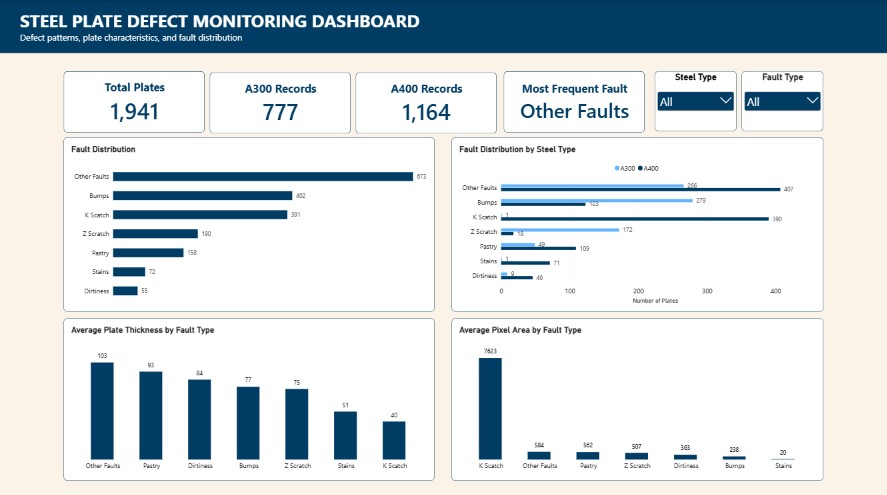

The page's visual inventory and layout, read from the dashboard file:
{"tool":"powerbi","page":{"name":"Page 1","canvas":[1920,1080],"ordinal":0},"visuals":[{"type":"clusteredBarChart","title":"Fault Distribution","fields":{"Category":["Steel_Faults_Raw.Fault Type"],"Y":["CountNonNull(Steel_Faults_Raw.Fault Type)"]},"box":[140,298,800,376],"z":0},{"type":"clusteredBarChart","title":"Fault Distribution by Steel Type","fields":{"Category":["Steel_Faults_Raw.Fault Type"],"Series":["Steel_Faults_Raw.Steel_Type"],"Y":["CountNonNull(Steel_Faults_Raw.Fault_Type)"]},"box":[978,298,802,376],"z":1000},{"type":"clusteredColumnChart","title":"Average Plate Thickness by Fault Type","fields":{"Category":["Steel_Faults_Raw.Fault Type"],"Y":["_Measures.Average Plate Thickness"]},"box":[140,688,800,350],"z":2000},{"type":"slicer","title":"Steel Type","fields":{"Values":["Steel_Faults_Raw.Steel_Type"]},"box":[1415.3,155.9,176.7,128.3],"z":4000},{"type":"slicer","title":"Fault Type","fields":{"Values":["Steel_Faults_Raw.Fault_Type"]},"box":[1603.4,155.9,176.3,128.8],"z":5000},{"type":"cardVisual","fields":{"Data":["_Measures.A400 Records"]},"box":[770,156.7,304,132],"z":6000},{"type":"cardVisual","fields":{"Data":["_Measures.A300 Records"]},"box":[455,156.7,304,132],"z":7000},{"type":"cardVisual","fields":{"Data":["_Measures.Most Frequent Fault"]},"box":[1088.3,155,304,132],"z":8000},{"type":"textbox","box":[0,0,1920,116],"z":9000},{"type":"cardVisual","fields":{"Data":["_Measures.Total Plates _ Card"]},"box":[140,156,304,132],"z":10000},{"type":"clusteredColumnChart","title":"Average Pixel Area by Fault Type","fields":{"Category":["Steel_Faults_Raw.Fault Type"],"Y":["Avg(Steel_Faults_Raw.Pixels_Areas)"]},"box":[978,688,802,350],"z":10001}]}

Visuals, with their boxes in screenshot pixels (x1, y1, x2, y2), scaled from the page's 1920x1080 canvas onto the 887x495 screenshot:
"Fault Distribution" clusteredBarChart: [65, 137, 434, 309]
"Fault Distribution by Steel Type" clusteredBarChart: [452, 137, 822, 309]
"Average Plate Thickness by Fault Type" clusteredColumnChart: [65, 315, 434, 476]
"Steel Type" slicer: [654, 71, 735, 130]
"Fault Type" slicer: [741, 71, 822, 130]
cardVisual - _Measures.A400 Records: [356, 72, 496, 132]
cardVisual - _Measures.A300 Records: [210, 72, 351, 132]
cardVisual - _Measures.Most Frequent Fault: [503, 71, 643, 132]
textbox: [0, 0, 886, 53]
cardVisual - _Measures.Total Plates _ Card: [65, 72, 205, 132]
"Average Pixel Area by Fault Type" clusteredColumnChart: [452, 315, 822, 476]
